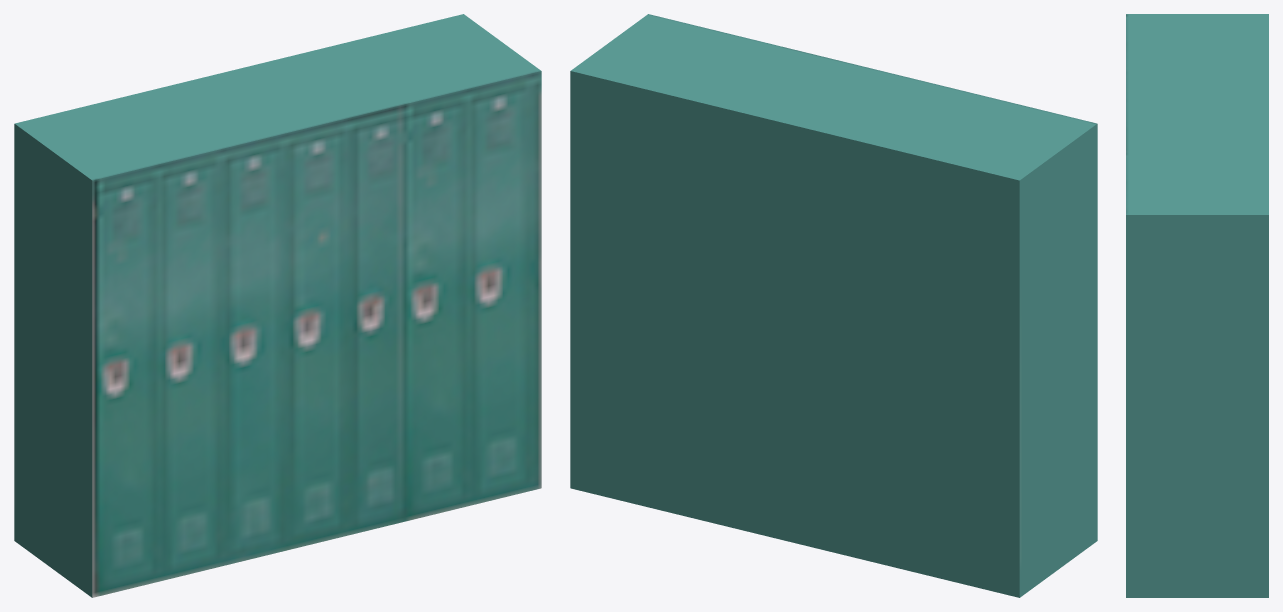
The model's file is SurroundingEnvironment_Locker.fbx.
The picture shows the model from 3 angles, left to right: view 1: azimuth 30°, elevation 25°; view 2: azimuth 150°, elevation 25°; view 3: azimuth 270°, elevation 25°; orthographic projection. The views are drawn at different scales.
Visible parts, largest first — view 1: Locker; view 2: Locker; view 3: Locker.
Part boxes in pixels (x1,y1,x2,y2): Locker: [14, 14, 541, 597]; Locker: [570, 14, 1097, 597]; Locker: [1126, 14, 1268, 597].
Bounding box in the file's own units: 250 × 222 × 75.
